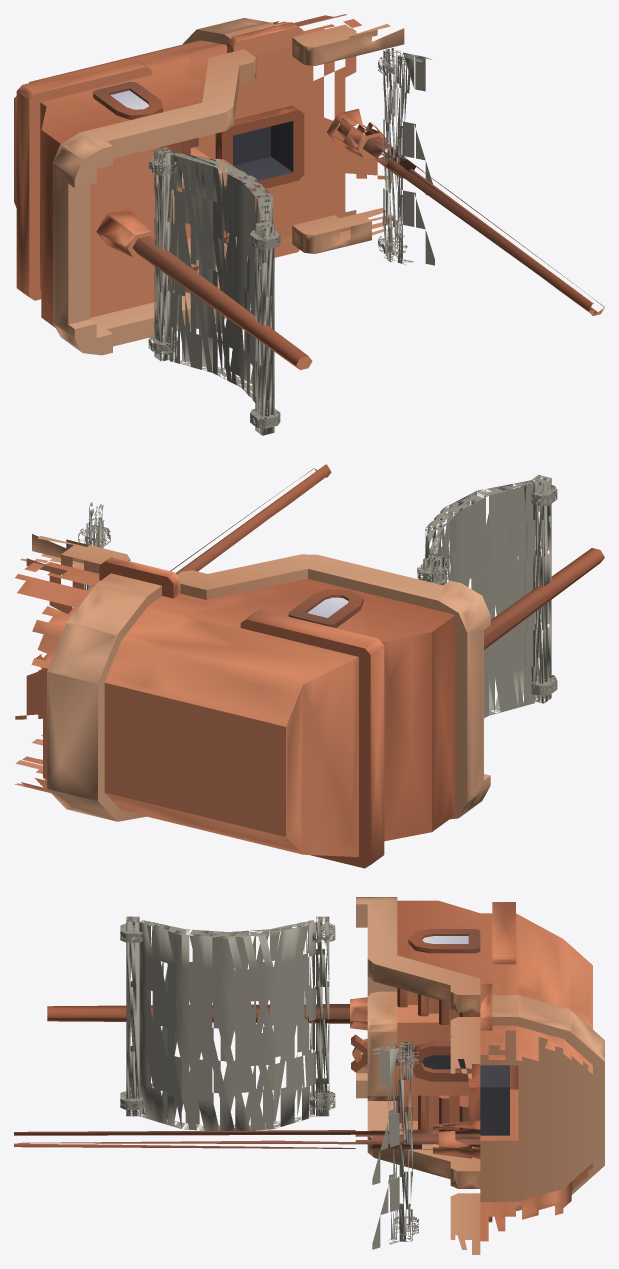
File: SM_Wreck_Large_Stern.obj
3 views of the same model, one above another, from view 1: azimuth 30°, elevation 25°; view 2: azimuth 150°, elevation 25°; view 3: azimuth 270°, elevation 25° (orthographic). The views are drawn at different scales.
Parts seen in each view (by area): view 1: SM_Wreck_Large_Stern; view 2: SM_Wreck_Large_Stern; view 3: SM_Wreck_Large_Stern.
Boxes of the visible parts, x1,y1,x2,y2 form: SM_Wreck_Large_Stern: [14, 14, 604, 435]; SM_Wreck_Large_Stern: [14, 464, 604, 868]; SM_Wreck_Large_Stern: [14, 897, 604, 1254].
Bounding box in the file's own units: 2226 × 1262 × 3194.
Materials: 2 (1 with a texture image).
